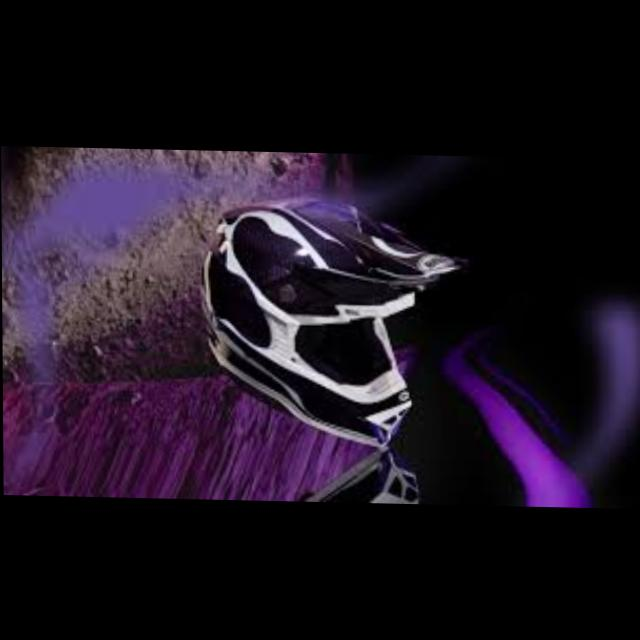motorcycle-helmets: (206, 200, 461, 444)
